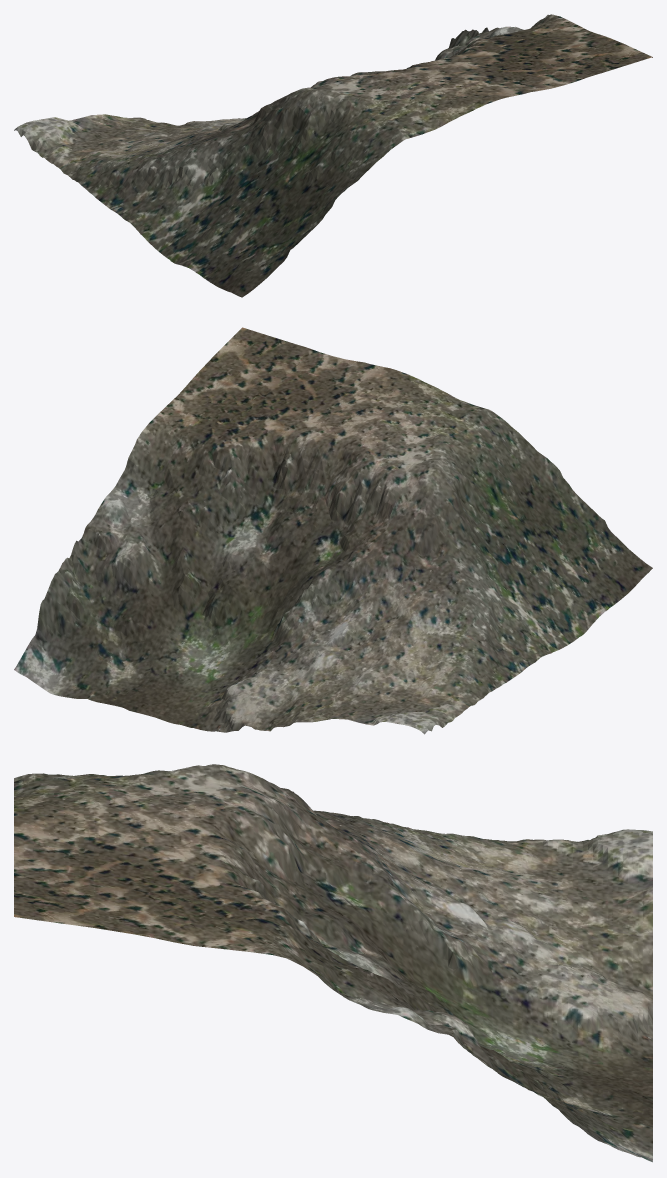
3 renders of one model, top to bottom at view 1: azimuth 30°, elevation 25°; view 2: azimuth 150°, elevation 25°; view 3: azimuth 270°, elevation 25°, orthographic. The views are drawn at different scales.
Bounding box in the file's own units: 500 × 223 × 481.
1 material, 1 textured.
